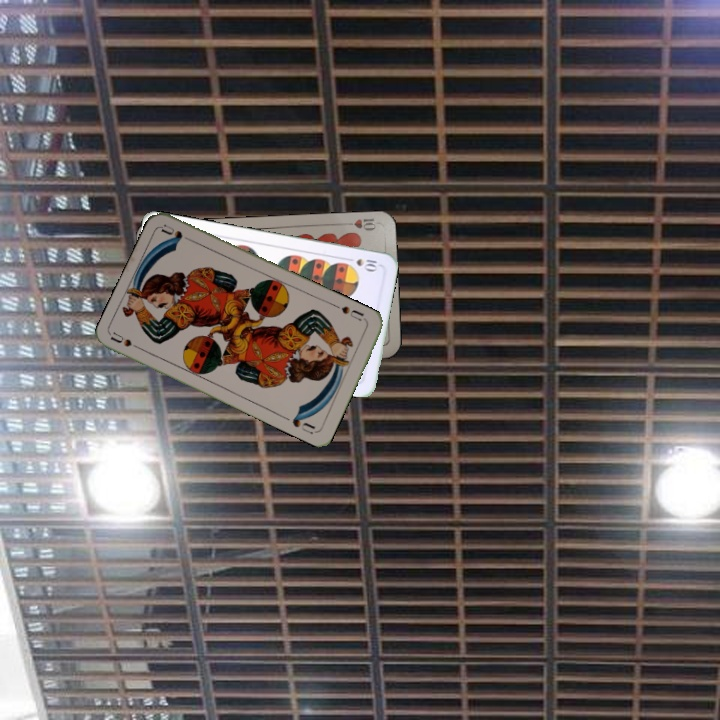H10: (339, 214, 378, 234)
S10: (342, 254, 382, 273)
SU: (108, 329, 147, 354), (337, 302, 366, 323)
